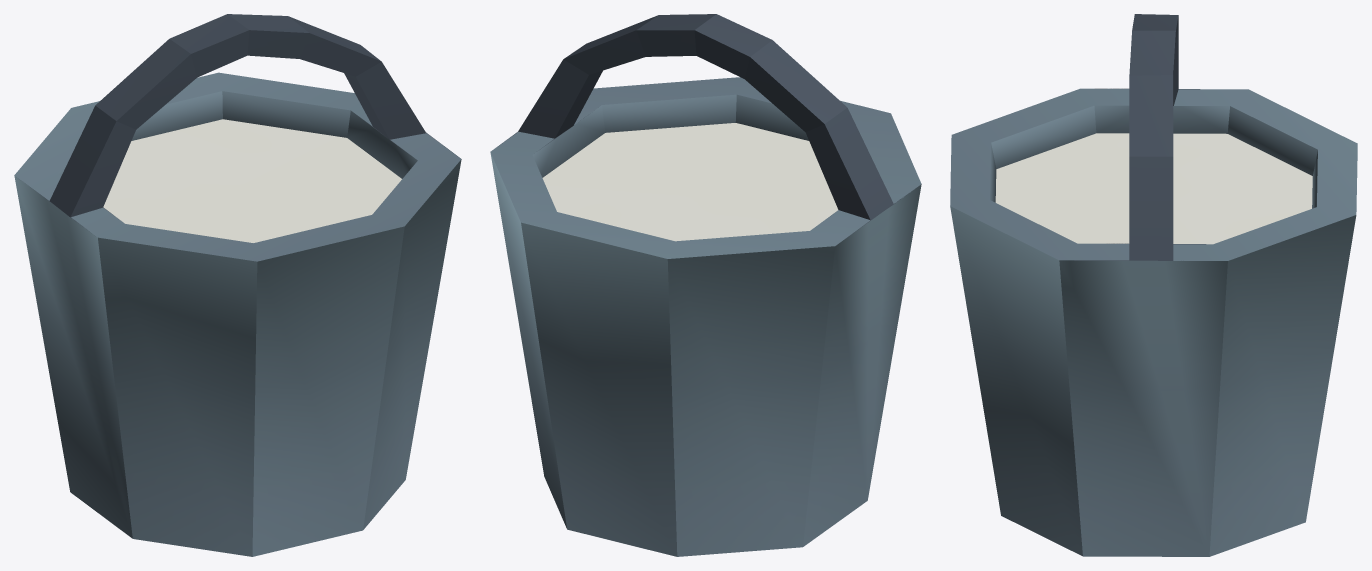
The model's file is bucket3.fbx.
3 renders of one model, left to right at view 1: azimuth 30°, elevation 25°; view 2: azimuth 150°, elevation 25°; view 3: azimuth 270°, elevation 25°, orthographic.
Visible parts, largest first — view 1: bucket; view 2: bucket; view 3: bucket.
Boxes of the visible parts, left/top/right/bottom form: bucket: left=14, top=14, right=461, bottom=556; bucket: left=490, top=14, right=921, bottom=556; bucket: left=950, top=14, right=1357, bottom=556.
Bounding box in the file's own units: 230 × 287 × 230.
